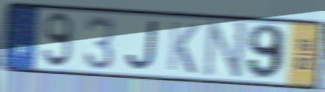3: (83, 14, 115, 72)
9: (246, 23, 290, 83), (41, 10, 75, 70)
J: (124, 19, 160, 72)
K: (166, 20, 201, 76)
N: (202, 18, 249, 82)
